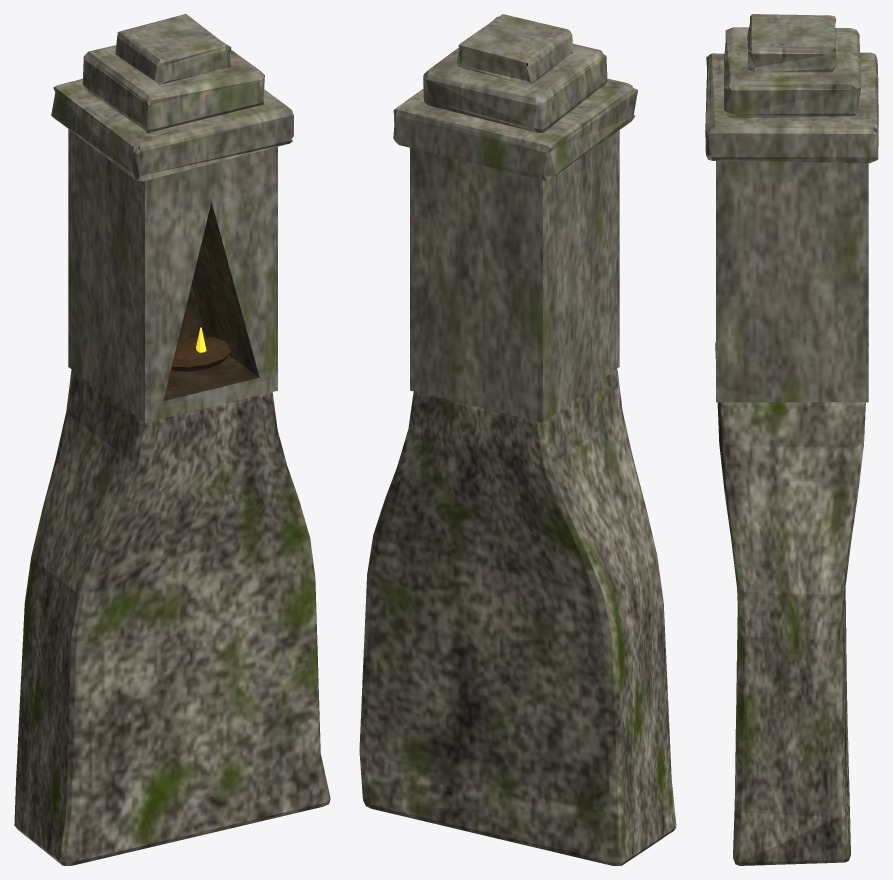
The model's file is Milestone_Vazhivilakku.glb.
3 views of the same model, side by side, from view 1: azimuth 30°, elevation 25°; view 2: azimuth 150°, elevation 25°; view 3: azimuth 270°, elevation 25° (orthographic).
Bounding box in the file's own units: 0.8104 × 2.24 × 0.4548.
3 materials, 2 textured.
